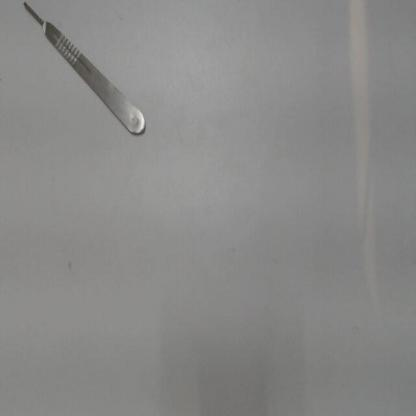No.3 BP Handle: (14, 5, 156, 146)
